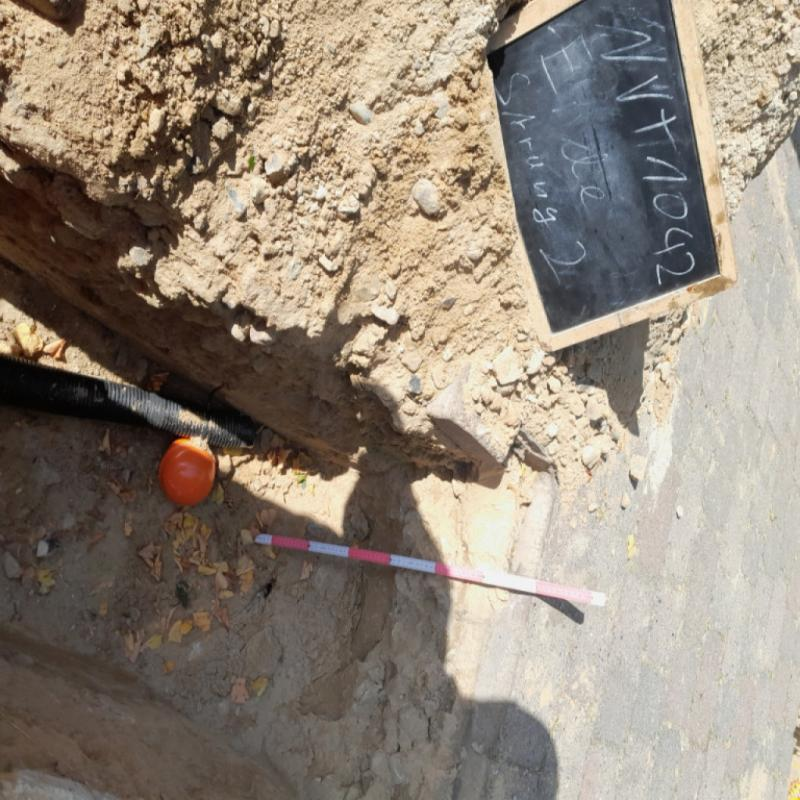Kugelmarker: (158, 441, 217, 505)
